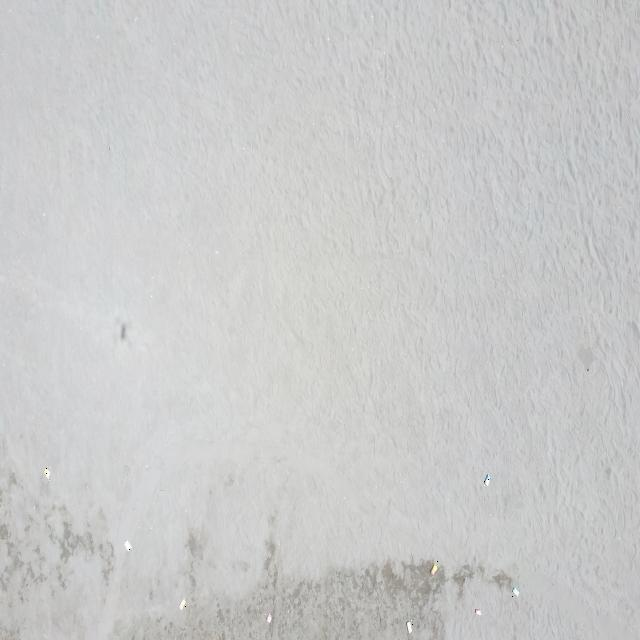Garbage: (483, 472, 491, 484), (123, 540, 131, 550), (432, 560, 437, 575), (512, 586, 519, 596), (407, 620, 412, 632), (473, 607, 480, 615), (266, 612, 271, 623), (43, 467, 48, 477), (179, 600, 186, 607)
